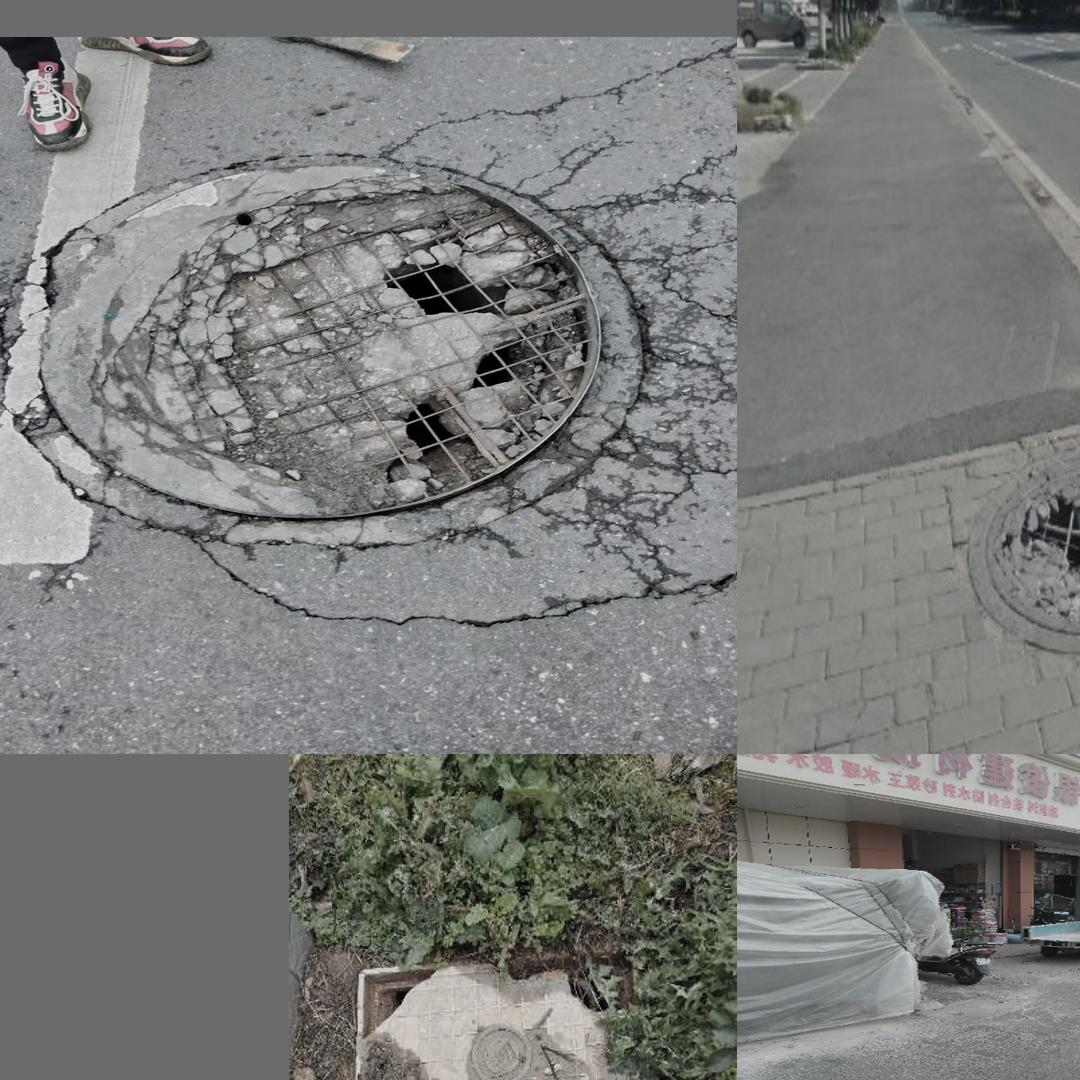broke: (7, 155, 605, 529), (353, 953, 677, 1080), (968, 444, 1080, 653)
